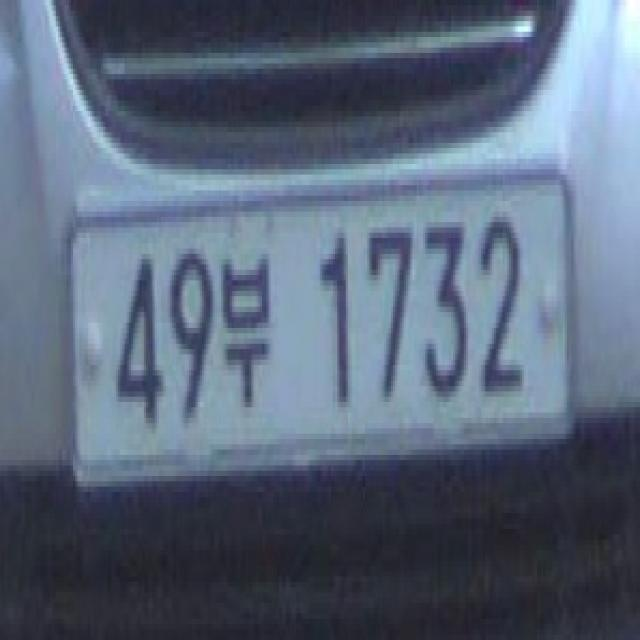1: (318, 224, 358, 412)
2: (480, 202, 536, 424)
3: (418, 208, 472, 407)
4: (122, 236, 166, 438)
7: (366, 218, 412, 404)
9: (172, 230, 214, 424)
bu: (219, 234, 275, 421)
license_plate: (56, 159, 578, 476)
